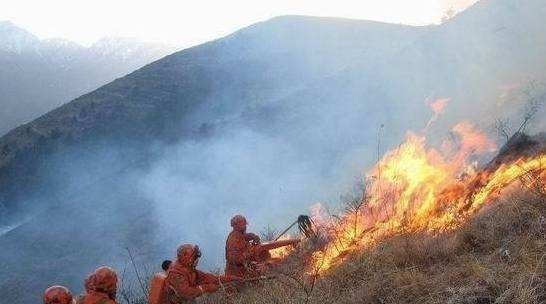fire: (281, 101, 543, 277)
